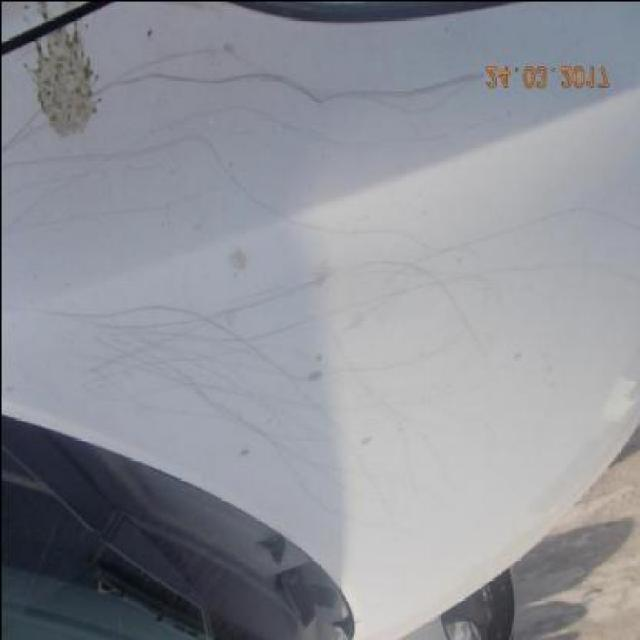damage: (28, 240, 483, 546), (3, 50, 485, 246)
